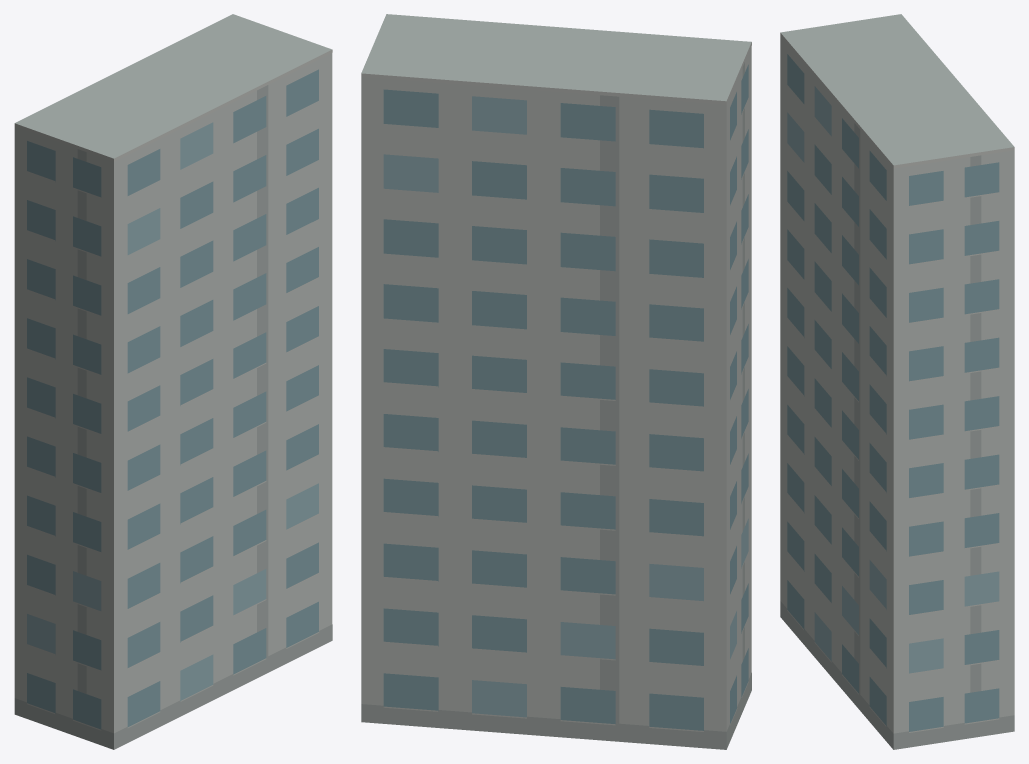
The model's file is residential-b9bf6521-dc4d-4b76-9de0-0ea8f1ba3315.glb.
3 renders of one model, left to right at view 1: azimuth 30°, elevation 25°; view 2: azimuth 150°, elevation 25°; view 3: azimuth 270°, elevation 25°, orthographic. The views are drawn at different scales.
Visible parts, largest first — view 1: residential-b9bf6521-dc4d-4b76-9de0-0ea8f1ba3315.tmp; view 2: residential-b9bf6521-dc4d-4b76-9de0-0ea8f1ba3315.tmp; view 3: residential-b9bf6521-dc4d-4b76-9de0-0ea8f1ba3315.tmp.
Boxes of the visible parts, <box> form: residential-b9bf6521-dc4d-4b76-9de0-0ea8f1ba3315.tmp: <box>14,14,332,749</box>; residential-b9bf6521-dc4d-4b76-9de0-0ea8f1ba3315.tmp: <box>361,14,751,749</box>; residential-b9bf6521-dc4d-4b76-9de0-0ea8f1ba3315.tmp: <box>780,14,1014,749</box>.
Bounding box in the file's own units: 24.46 × 44 × 16.
